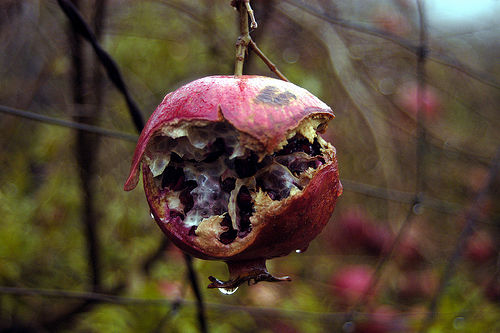pomogranate: (122, 74, 344, 299)
